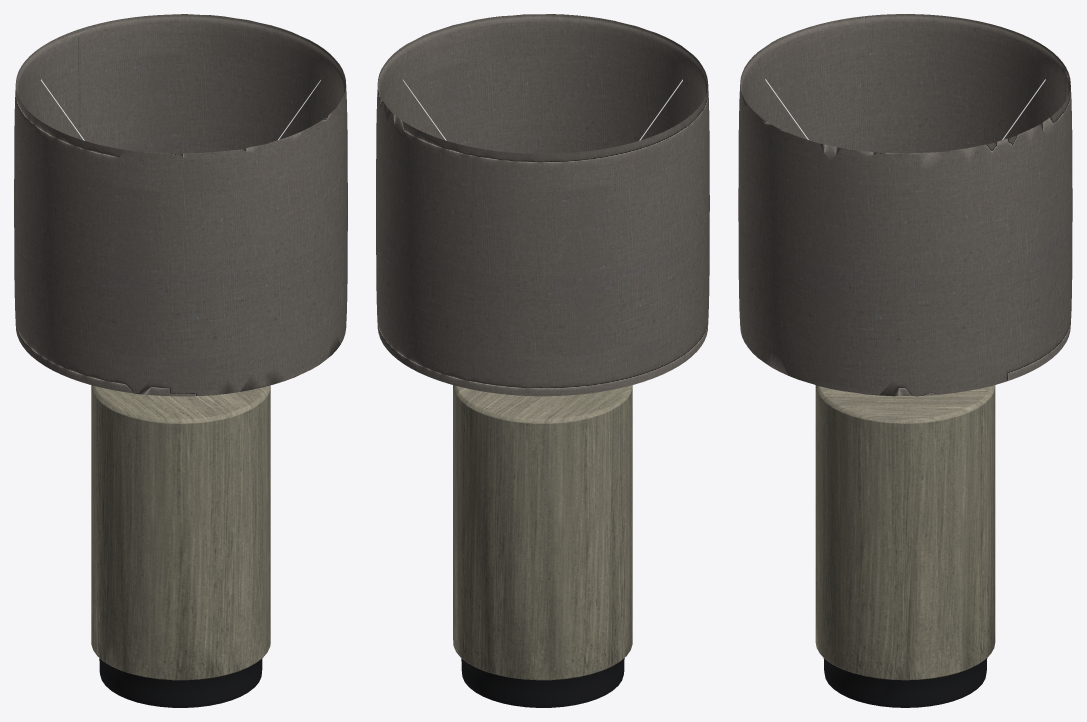
File: abo-b0825cxg81.f6bffe2e96.ar.glb
3 views of the same model, side by side, from view 1: azimuth 30°, elevation 25°; view 2: azimuth 150°, elevation 25°; view 3: azimuth 270°, elevation 25° (orthographic).
Visible parts, largest first — view 1: RootNode; view 2: RootNode; view 3: RootNode.
Part boxes in pixels (left/top/right/bottom): RootNode: left=14, top=14, right=347, bottom=707; RootNode: left=376, top=14, right=709, bottom=707; RootNode: left=738, top=14, right=1072, bottom=707.
Bounding box in the file's own units: 0.2277 × 0.4444 × 0.2277.
Materials: 1 (1 with a texture image).
